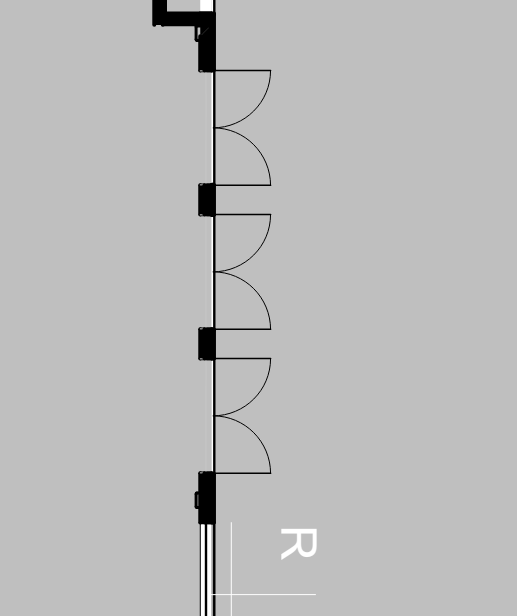double door: (206, 63, 290, 193), (209, 353, 283, 487), (207, 207, 280, 339)
